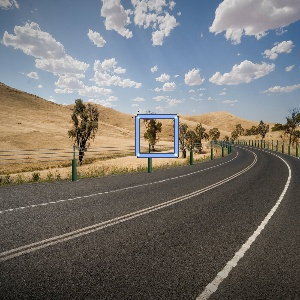square: (133, 111, 182, 160)
